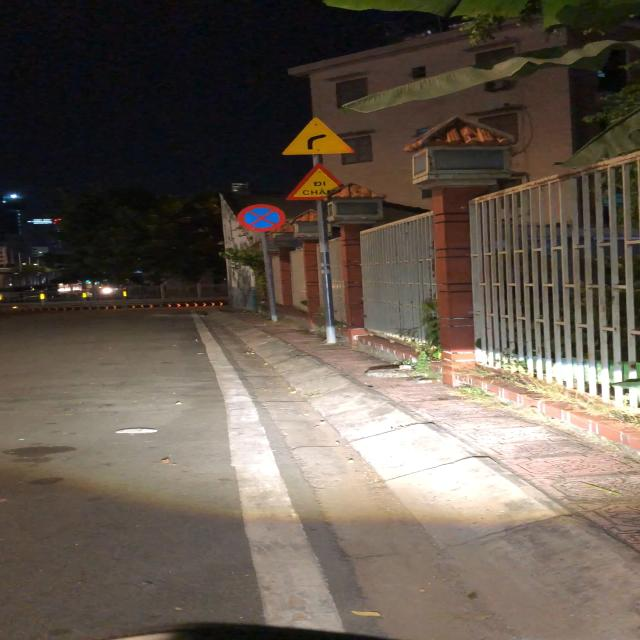Bien bao cam dung xe va do xe: (235, 202, 287, 234)
Bien bao cho ngoat nguy hiem: (276, 116, 358, 157)
Bien bao di cham: (283, 163, 353, 202)
